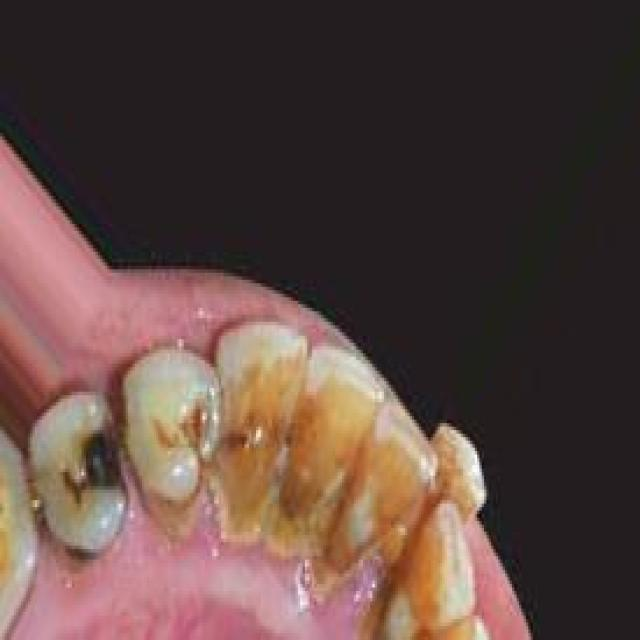caries: (52, 415, 127, 519), (61, 528, 107, 578)
